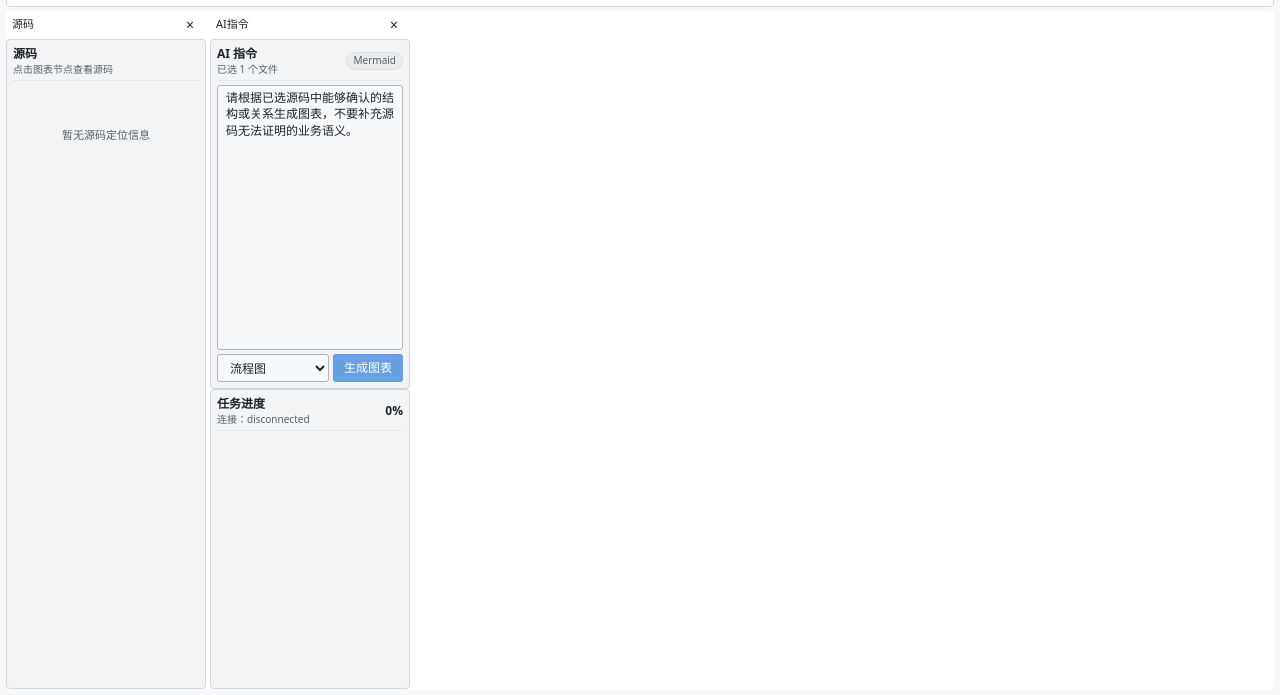
Test case: review: visible workflow evidence › C16: an HTTP generation error loads the failed task snapshot
The image size is (1280, 695).
(page scrolled)
Click the button "生成图表" at point(368, 368), box [333,354,403,382]
(page scrolled)
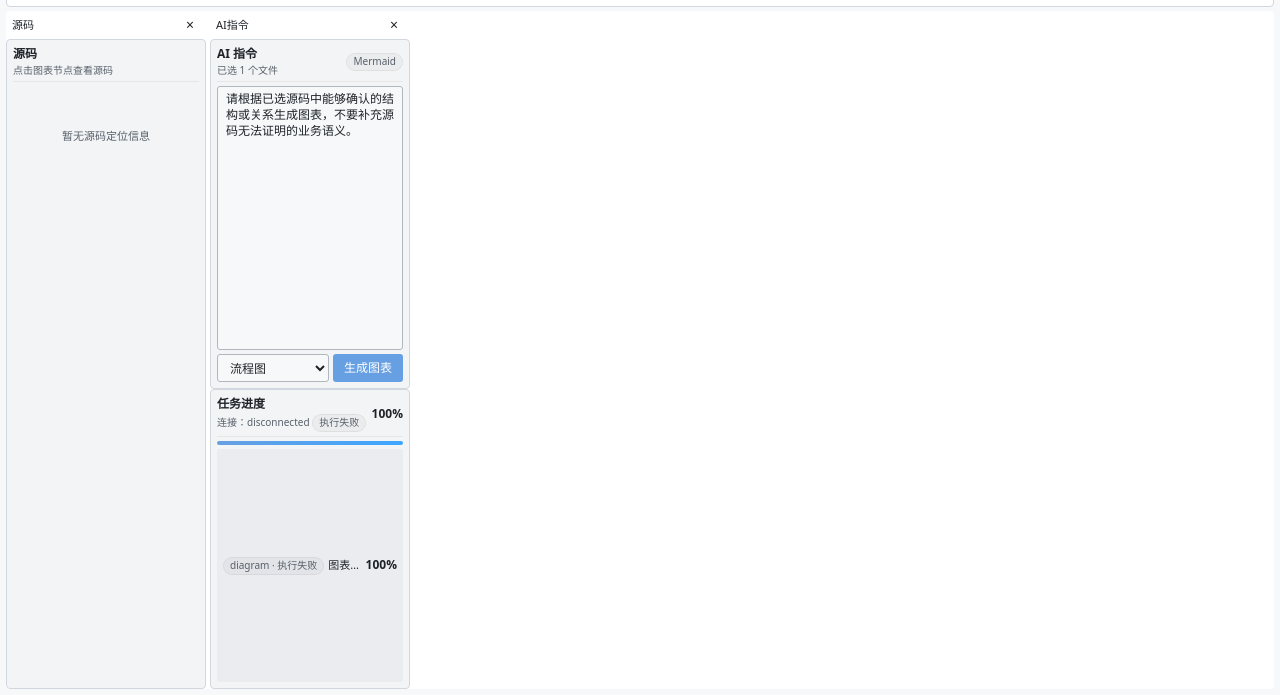
Expected: the element showing "任务进度 连接：disconnected 执行失败 100% diagram · 执行失败 图表生成失败 100%" is shown, [210,389,410,689]
